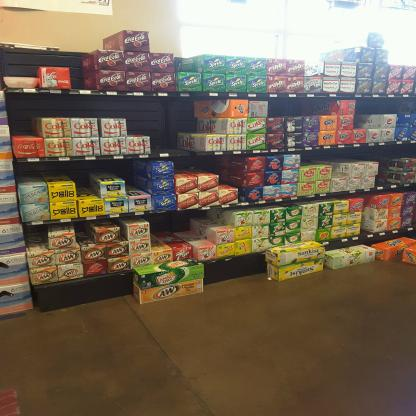Void: (8, 92, 124, 118), (152, 99, 185, 157), (14, 160, 69, 179), (270, 98, 332, 114), (150, 214, 193, 235), (70, 49, 91, 89), (4, 47, 34, 74), (188, 101, 211, 133), (73, 163, 95, 195), (126, 159, 146, 194), (128, 98, 148, 132), (195, 210, 231, 228), (25, 225, 49, 250), (354, 99, 375, 127), (217, 158, 238, 185), (172, 160, 213, 173), (40, 47, 66, 67), (11, 118, 42, 134), (348, 146, 379, 160), (175, 55, 199, 72), (334, 148, 347, 176), (101, 160, 118, 176), (306, 153, 330, 163), (80, 223, 92, 241), (382, 101, 398, 112)
